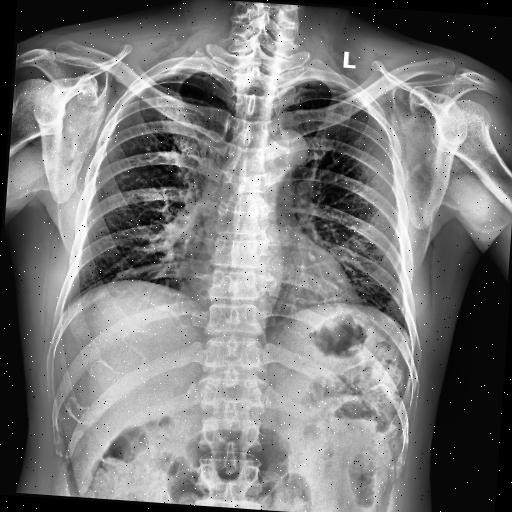0- Aortic enlargement: (256, 124, 312, 180), (256, 124, 310, 180), (268, 128, 310, 166)
11- Pleural thickening: (153, 66, 222, 86), (145, 64, 184, 90), (287, 76, 350, 92)
3- Cardiomegaly: (187, 259, 358, 315)
